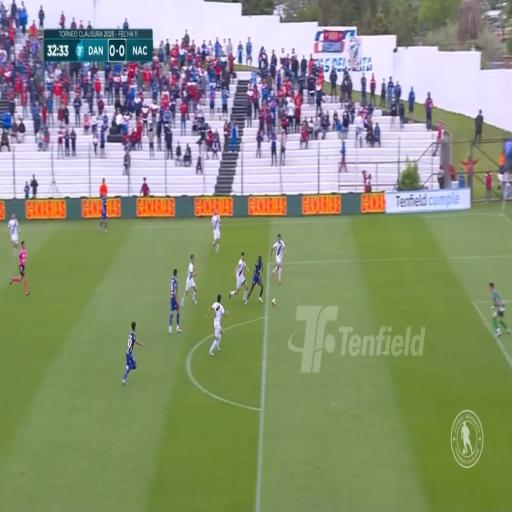Ball: (270, 295, 277, 307)
Goalkeeper: (487, 280, 502, 331)
Player: (123, 320, 137, 382), (209, 300, 225, 353), (233, 251, 249, 302), (184, 254, 197, 305), (170, 269, 179, 329), (252, 257, 262, 304), (211, 210, 222, 252), (98, 192, 108, 237), (274, 236, 284, 276), (10, 216, 20, 246)
Referee: (16, 237, 28, 298)
